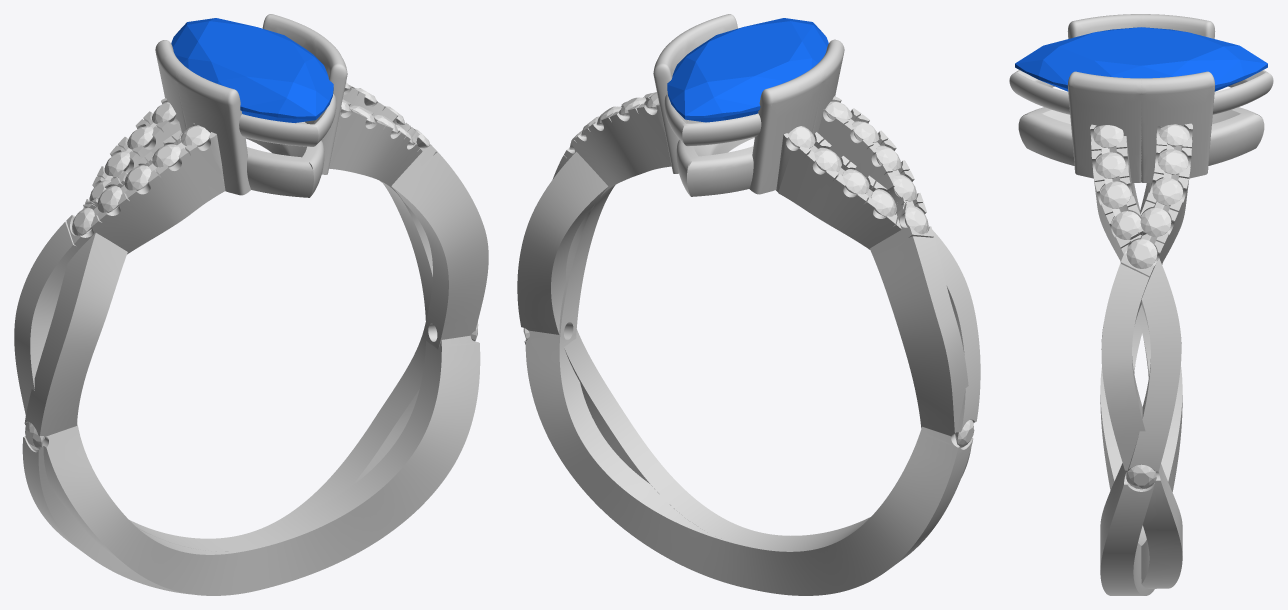
The model's file is bluesapphire-marquise-platinum-halfmoonbezel-twist-sidestones.glb.
The picture shows the model from 3 angles, left to right: view 1: azimuth 30°, elevation 25°; view 2: azimuth 150°, elevation 25°; view 3: azimuth 270°, elevation 25°; orthographic projection.
Visible parts, largest first — view 1: metal.003, stone; view 2: metal.003, stone; view 3: metal.003, stone, Twist diamonds.015, Twist diamonds.016, Twist diamonds.017, Twist diamonds.012, Twist diamonds.011, Twist diamonds.013, Twist diamonds.018, Twist diamonds.010, Twist diamonds.014, Twist diamonds.019.
Part boxes in pixels (x1,y1,x2,y2): metal.003: (14, 14, 488, 595); stone: (171, 18, 333, 122); metal.003: (517, 14, 980, 595); stone: (667, 18, 828, 122); metal.003: (1009, 14, 1273, 595); stone: (1015, 27, 1267, 91); Twist diamonds.015: (1126, 239, 1157, 268); Twist diamonds.016: (1140, 208, 1171, 236); Twist diamonds.017: (1152, 178, 1182, 205); Twist diamonds.012: (1100, 181, 1130, 208); Twist diamonds.011: (1112, 211, 1141, 239); Twist diamonds.013: (1095, 152, 1125, 178); Twist diamonds.018: (1158, 149, 1188, 174); Twist diamonds.010: (1126, 464, 1156, 489); Twist diamonds.014: (1093, 125, 1123, 148); Twist diamonds.019: (1159, 124, 1189, 145).
Bounding box in the file's own units: 19.97 × 22.73 × 10.4.
